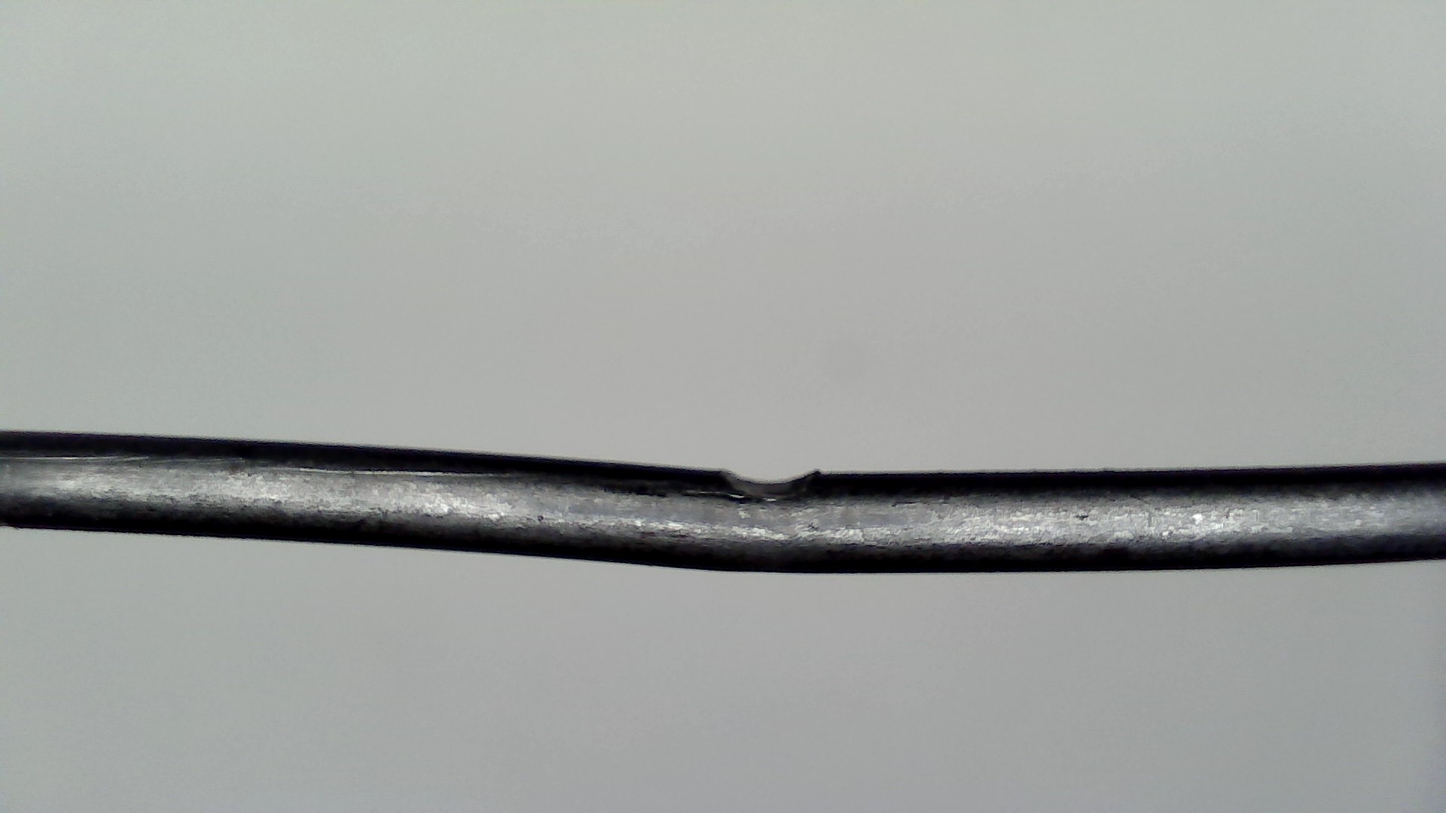defect: (686, 465, 824, 498)
